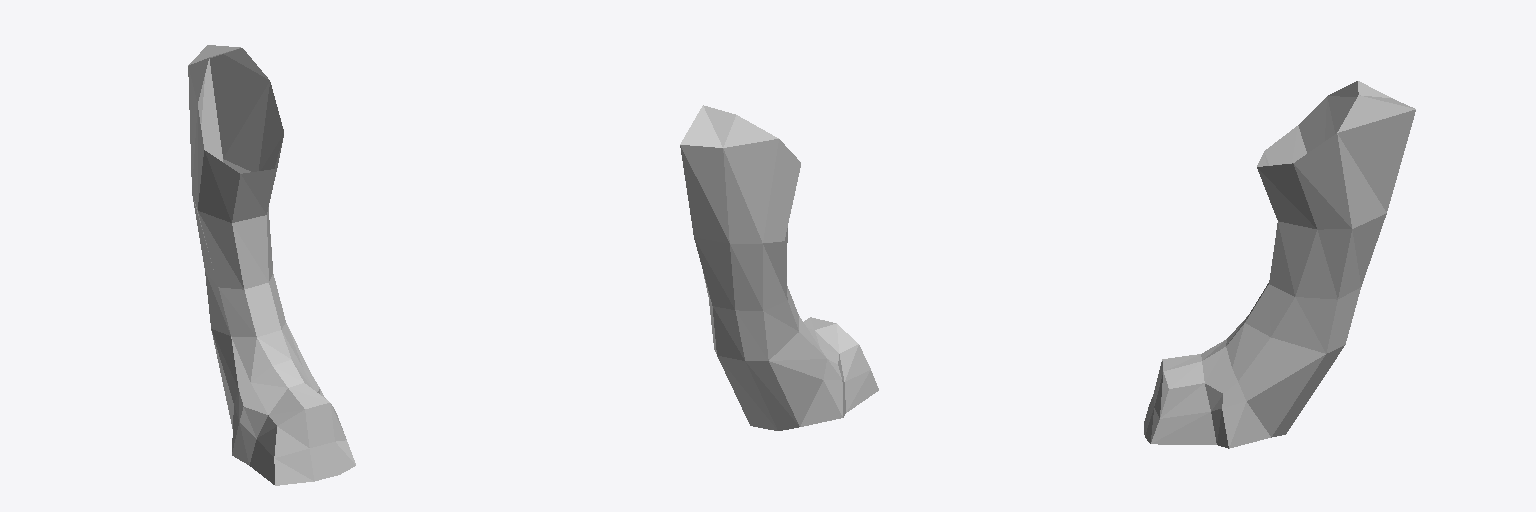
The model's file is 09B_back_left.obj.
The picture shows the model from 3 angles: view 1: azimuth 30°, elevation 25°; view 2: azimuth 150°, elevation 25°; view 3: azimuth 270°, elevation 25°; orthographic projection.
Parts seen in each view (by area): view 1: polySurface17 WolfMesh; view 2: polySurface17 WolfMesh; view 3: polySurface17 WolfMesh.
Boxes of the visible parts, x1=… form: polySurface17 WolfMesh: x1=188, y1=45, x2=355, y2=485; polySurface17 WolfMesh: x1=680, y1=105, x2=878, y2=430; polySurface17 WolfMesh: x1=1144, y1=81, x2=1415, y2=448.
Size of the model in its own units: 0.2647 by 0.8809 by 0.6282.